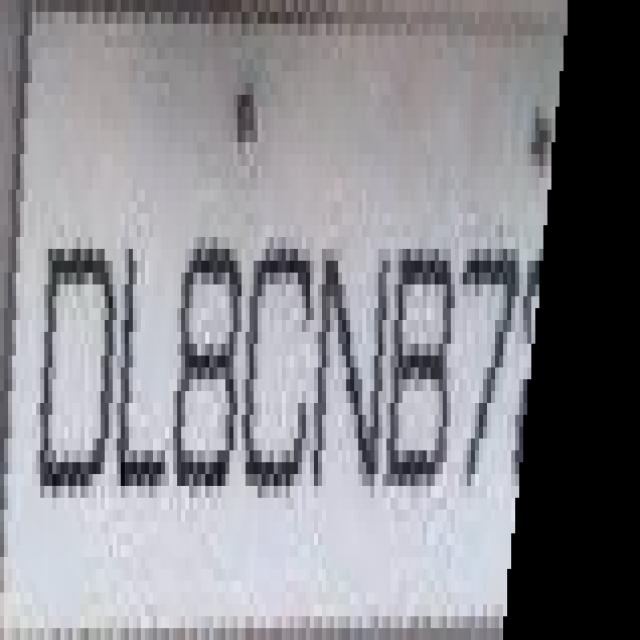license_plate: (8, 60, 543, 604)
